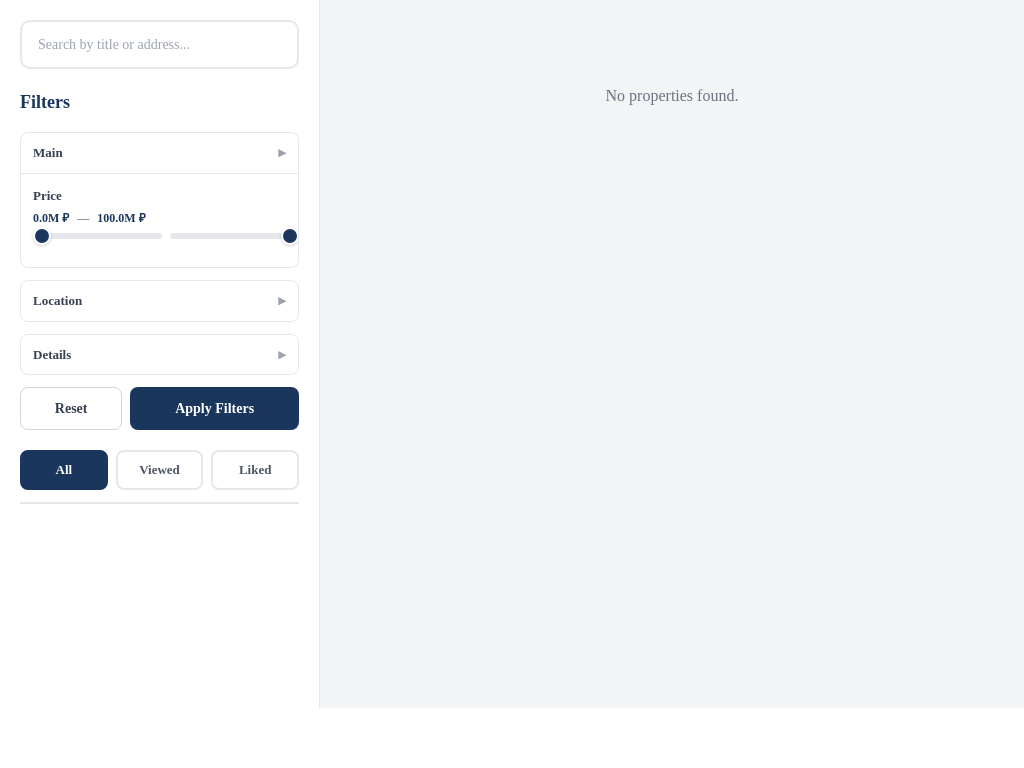
Catalog Page › shows empty state for liked tab when authenticated
The width and height of the screenshot is (1024, 768).
Expected: the text "No properties found." is shown, [606,87,738,104]
Click the button "Liked" at coordinates (255, 470), box [211,450,299,490]
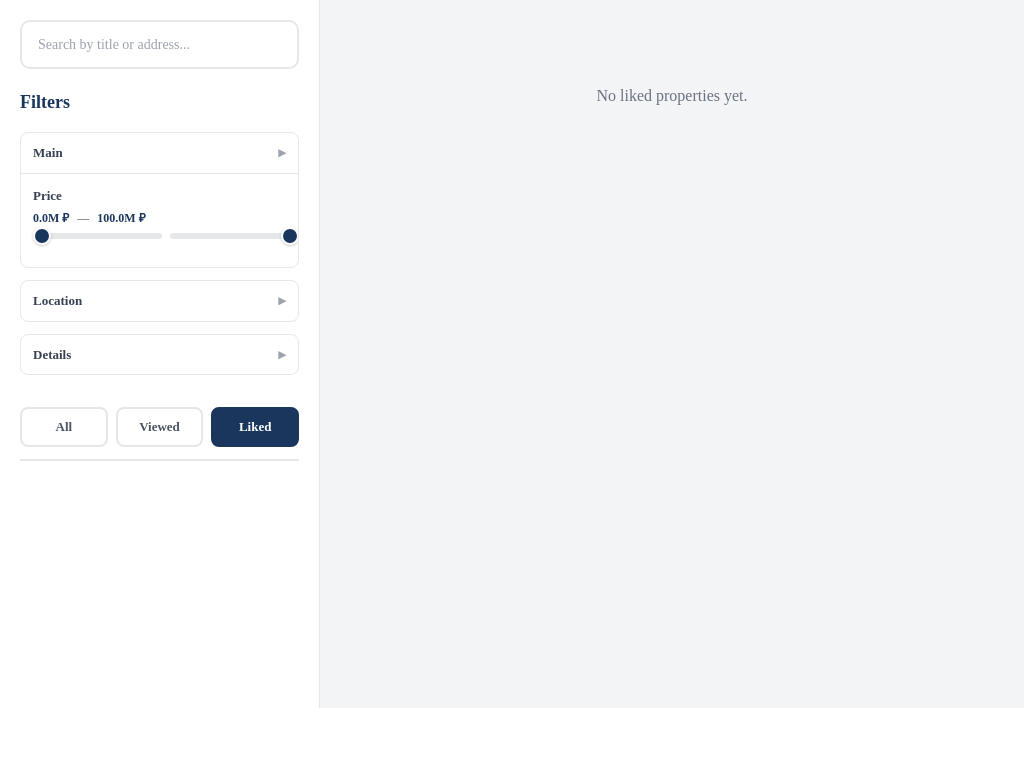
Now the text "No liked properties yet." is shown, box [596,87,748,104]
